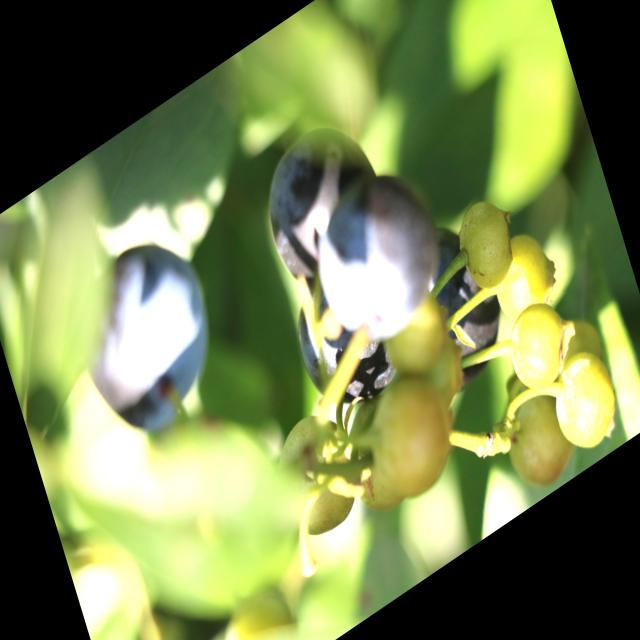blueberry: (69, 219, 232, 460), (306, 156, 448, 364), (251, 96, 395, 297), (287, 267, 401, 435), (416, 203, 514, 391)
blueberry-unripe: (354, 359, 464, 526), (268, 394, 368, 556), (495, 369, 580, 504), (544, 339, 628, 469), (447, 183, 527, 306), (481, 221, 564, 339), (501, 290, 578, 408)
